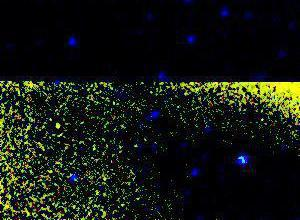star: (42, 114, 72, 144)
